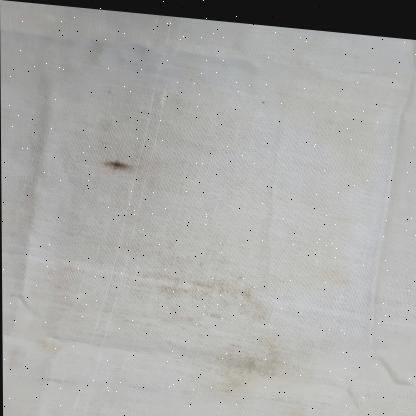spot: (83, 107, 222, 186), (149, 240, 268, 326), (180, 268, 258, 316), (221, 332, 301, 366), (104, 86, 132, 172), (314, 255, 360, 291), (141, 123, 185, 158), (97, 151, 145, 174), (206, 281, 246, 305), (244, 340, 281, 361)
